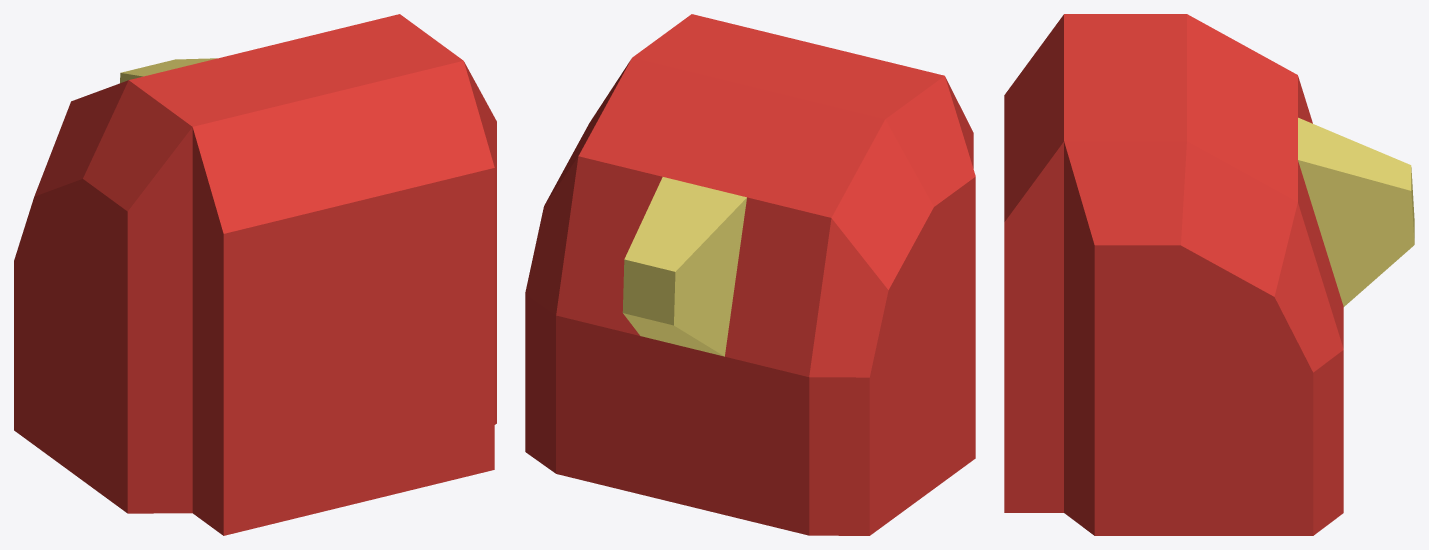
Rendered from Unit_Swarm.fbx.
The picture shows the model from 3 angles, left to right: view 1: azimuth 30°, elevation 25°; view 2: azimuth 150°, elevation 25°; view 3: azimuth 270°, elevation 25°; orthographic projection. The views are drawn at different scales.
Parts seen in each view (by area): view 1: Swarm, Swarm.001; view 2: Swarm, Swarm.001; view 3: Swarm, Swarm.001.
Boxes of the visible parts, x1,y1,x2,y2 form: Swarm: (14, 14, 496, 365); Swarm.001: (14, 254, 496, 535); Swarm: (525, 14, 975, 377); Swarm.001: (525, 294, 975, 535); Swarm: (1004, 14, 1414, 372); Swarm.001: (1004, 349, 1343, 535).
Size of the model in its own units: 1000 by 1000 by 1000.
